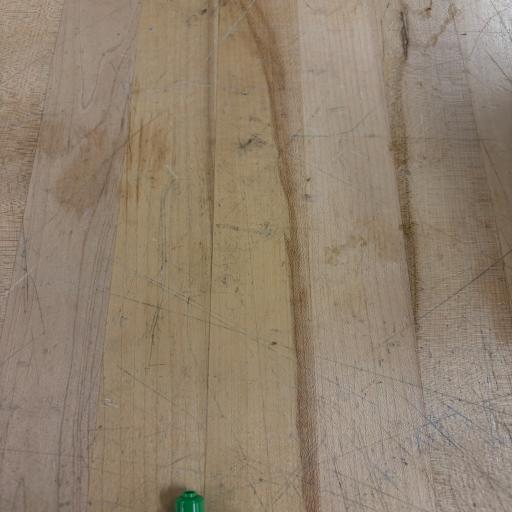Green-Lego: (173, 490, 207, 512)
